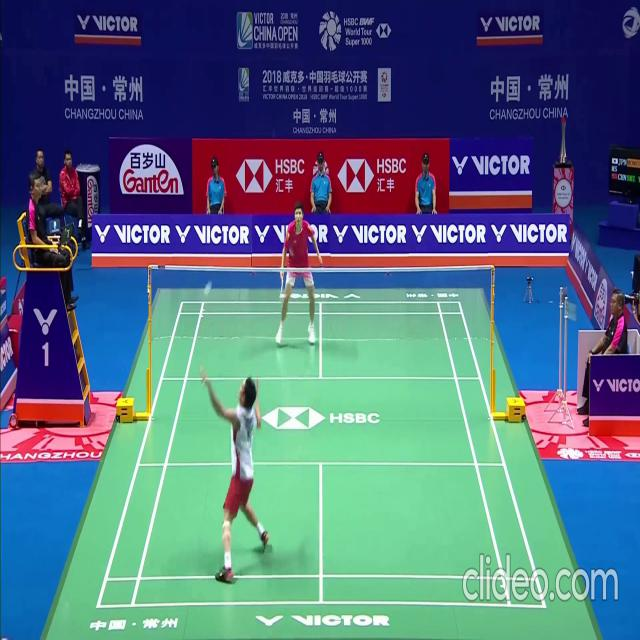Shuttlecock: (206, 287, 211, 294)
